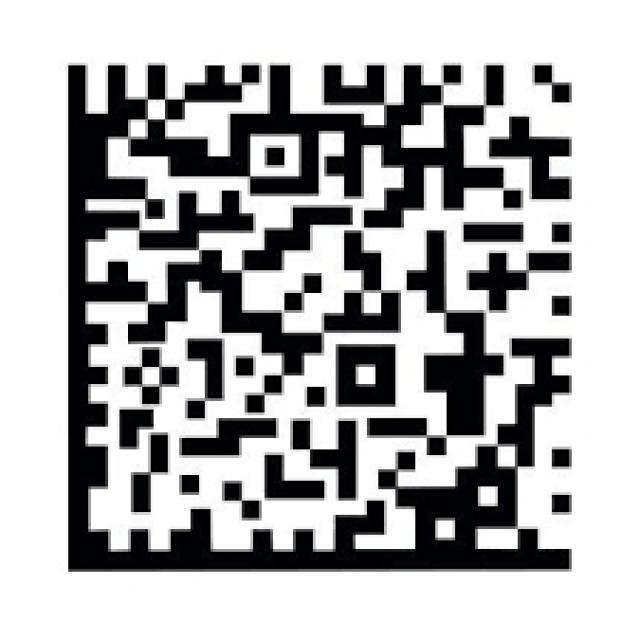Data-Matrix: (54, 48, 589, 589)
